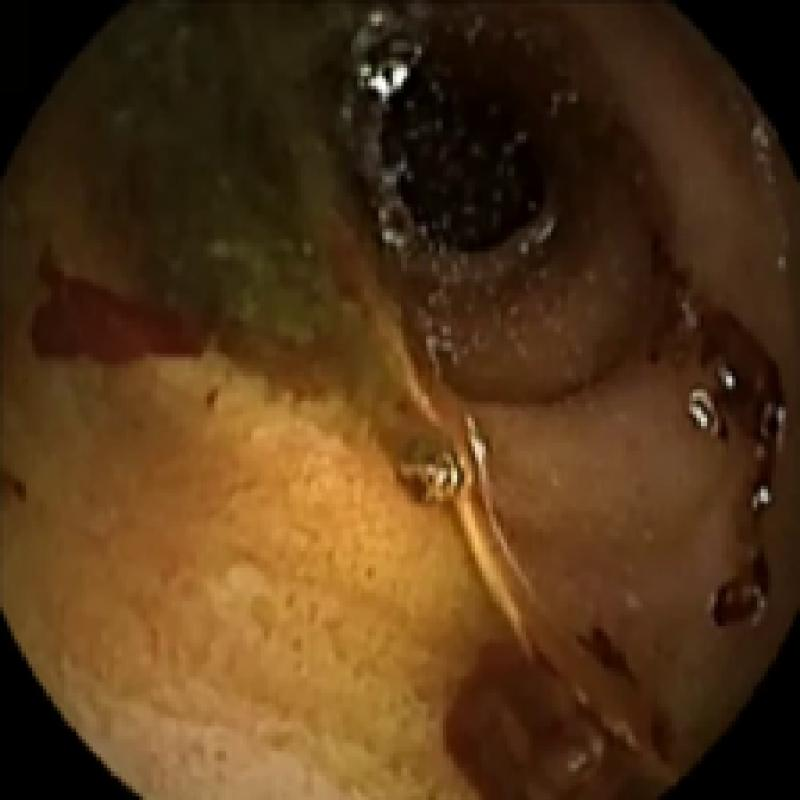bleeding: (651, 230, 789, 629), (439, 617, 640, 800), (368, 43, 546, 246), (36, 246, 218, 348)
